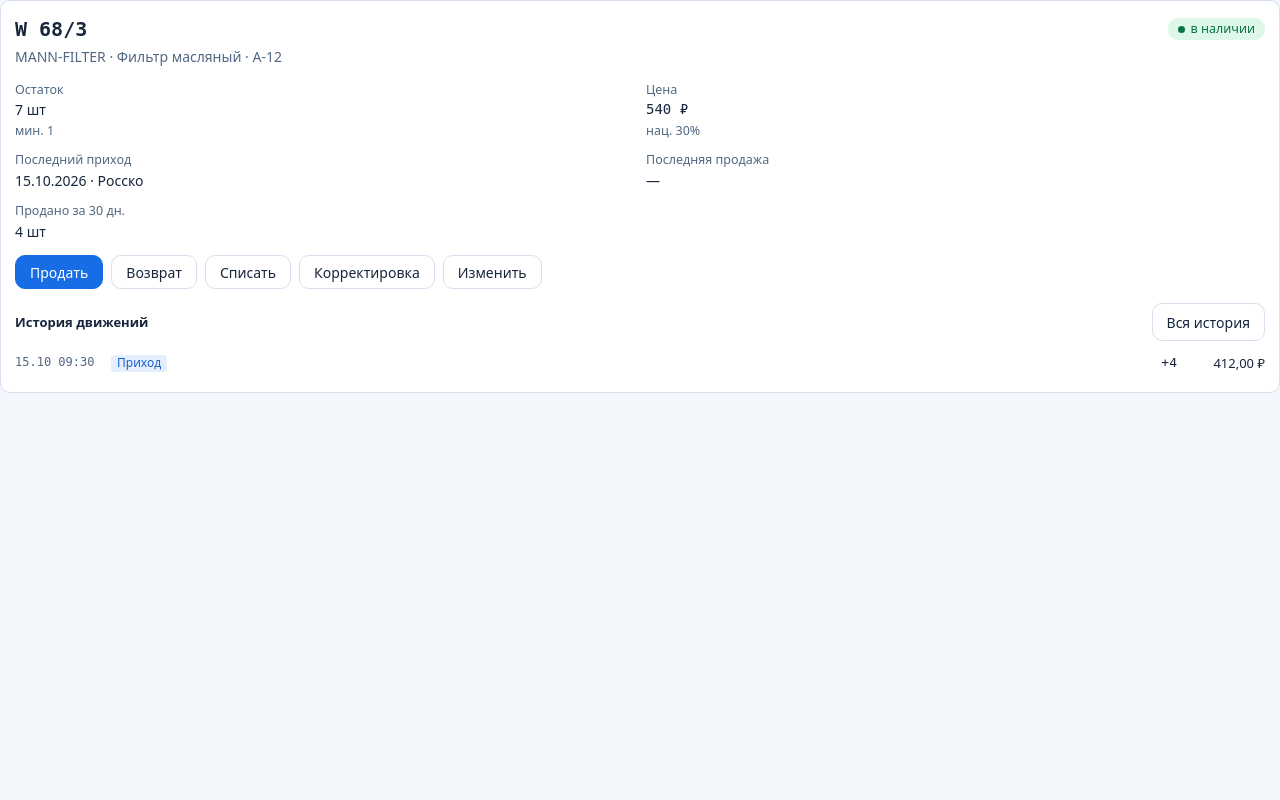
Test case: ItemPanel › opens the full history dialog
Click the button "Вся история".
click(1208, 322)  # box [1152, 303, 1265, 341]
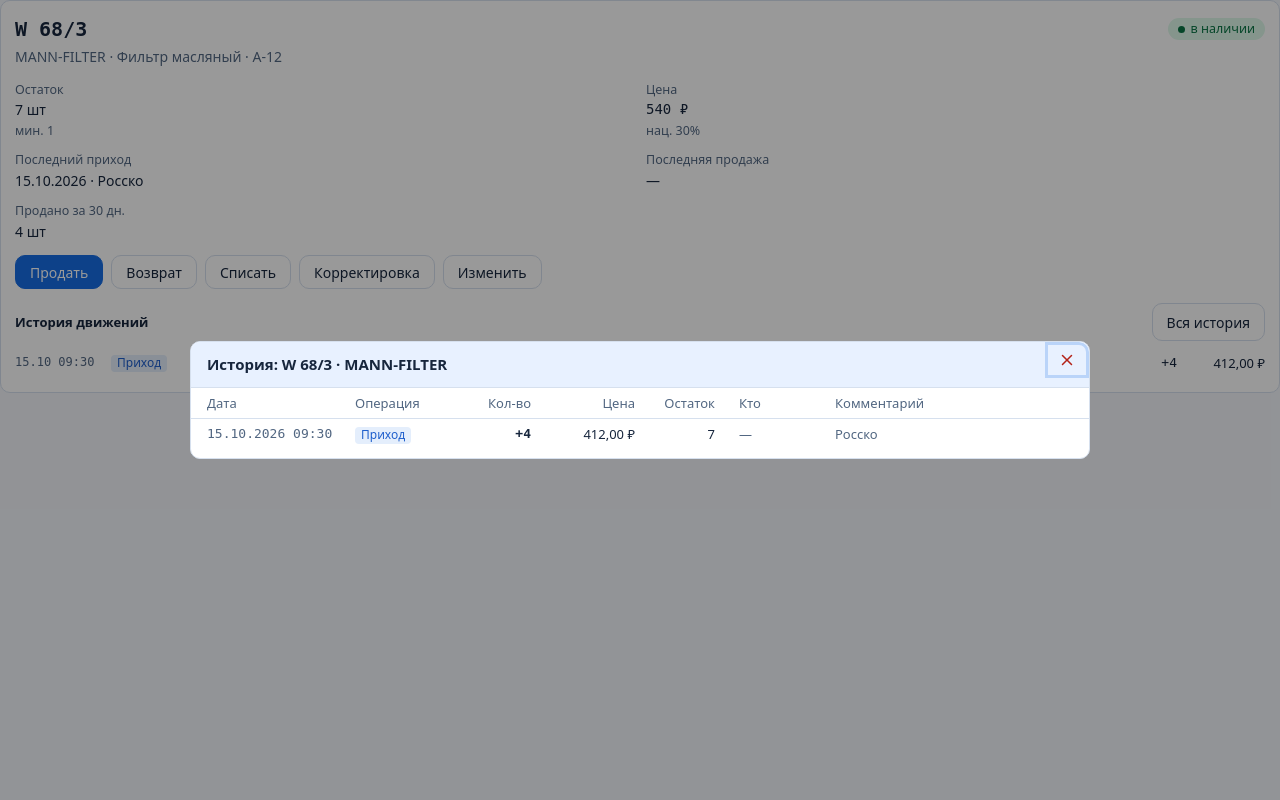
Expected: the heading "История: W 68/3 · MANN-FILTER" is shown, [207, 354, 447, 374]
Expected: the column heading "Остаток" is shown, [647, 388, 727, 419]
